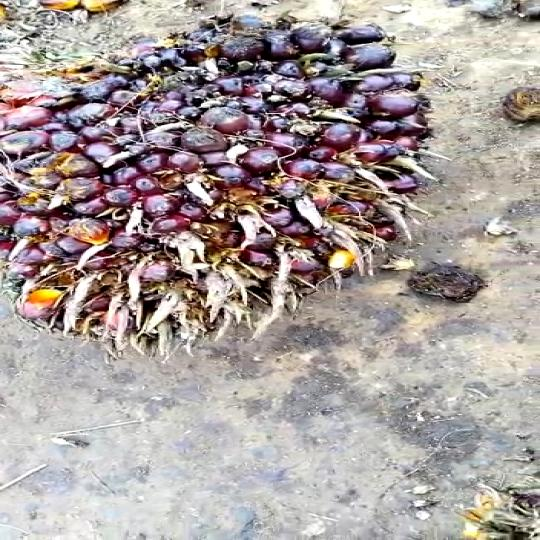masak: (0, 6, 467, 359)
